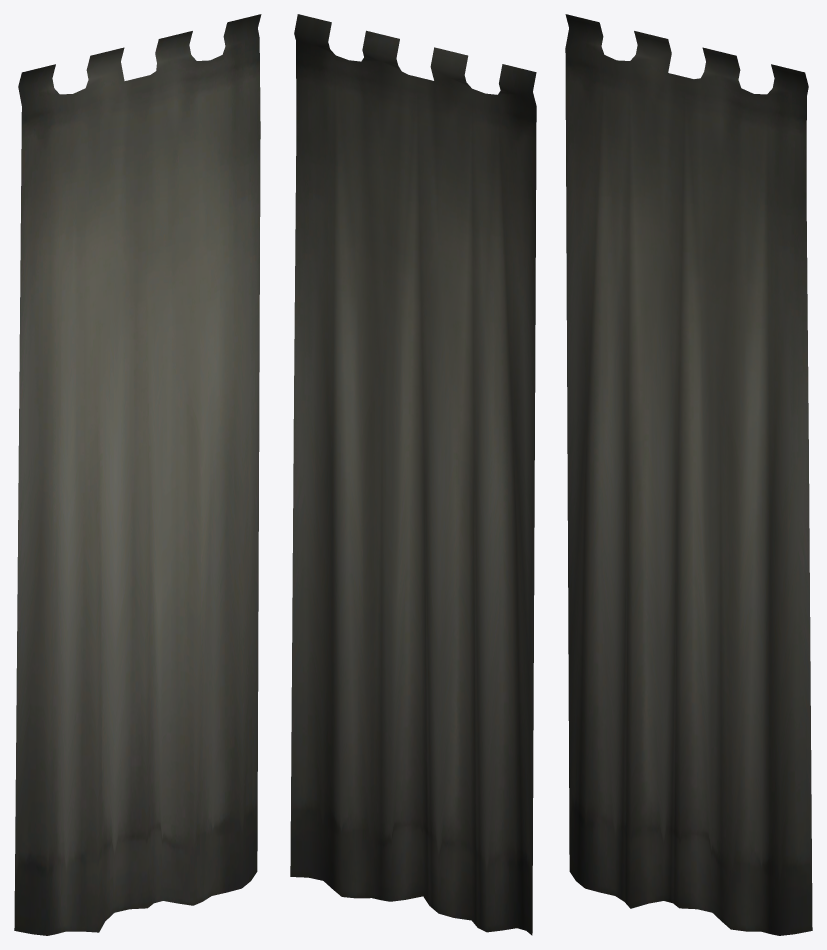
File: cortinas1.obj
3 views of the same model, side by side, from view 1: azimuth 30°, elevation 25°; view 2: azimuth 150°, elevation 25°; view 3: azimuth 330°, elevation 25° (orthographic).
Parts seen in each view (by area): view 1: curtain.001_meshId127.003; view 2: curtain.001_meshId127.003; view 3: curtain.001_meshId127.003.
Boxes of the visible parts, <box> form: curtain.001_meshId127.003: <box>14,14,261,935</box>; curtain.001_meshId127.003: <box>290,14,536,935</box>; curtain.001_meshId127.003: <box>565,14,812,935</box>.
Bounding box in the file's own units: 2.23 × 7.65 × 0.1872.
1 material, 1 textured.
